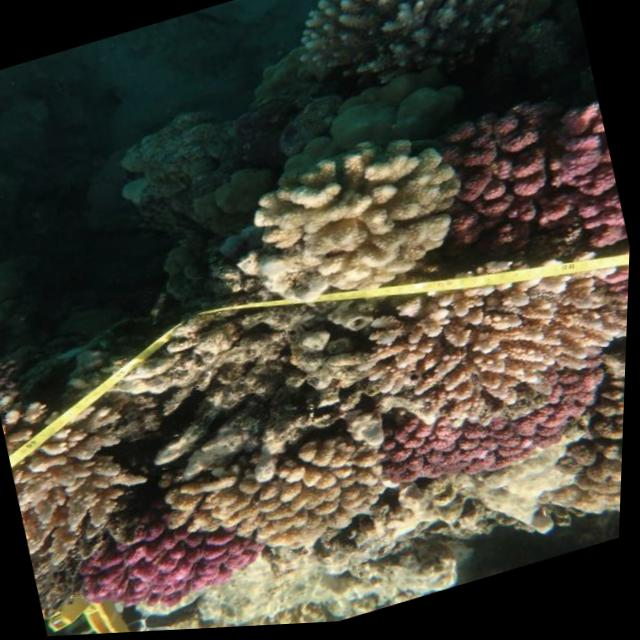Bleached Coral: (180, 81, 462, 363), (234, 0, 571, 132)
Healthy Coral: (428, 92, 628, 292), (373, 372, 615, 507), (75, 502, 259, 631)
